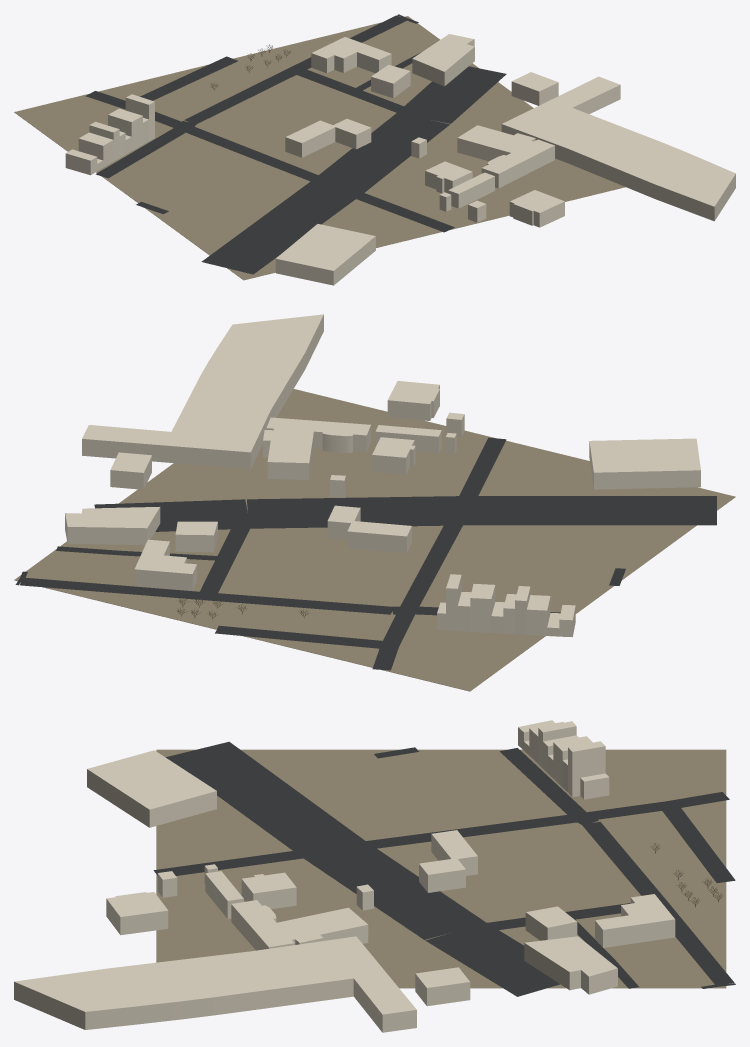
Rendered from street_ba_cu.far.glb.
3 renders of one model, top to bottom at view 1: azimuth 30°, elevation 25°; view 2: azimuth 150°, elevation 25°; view 3: azimuth 270°, elevation 25°, orthographic. The views are drawn at different scales.
Visible parts, largest first — view 1: street_ba_cu; view 2: street_ba_cu; view 3: street_ba_cu.
Boxes of the visible parts, left/top/right/bottom form: street_ba_cu: left=14, top=14, right=735, bottom=285; street_ba_cu: left=14, top=314, right=735, bottom=691; street_ba_cu: left=14, top=720, right=735, bottom=1032.
Bounding box in the file's own units: 243 × 17.6 × 252.
